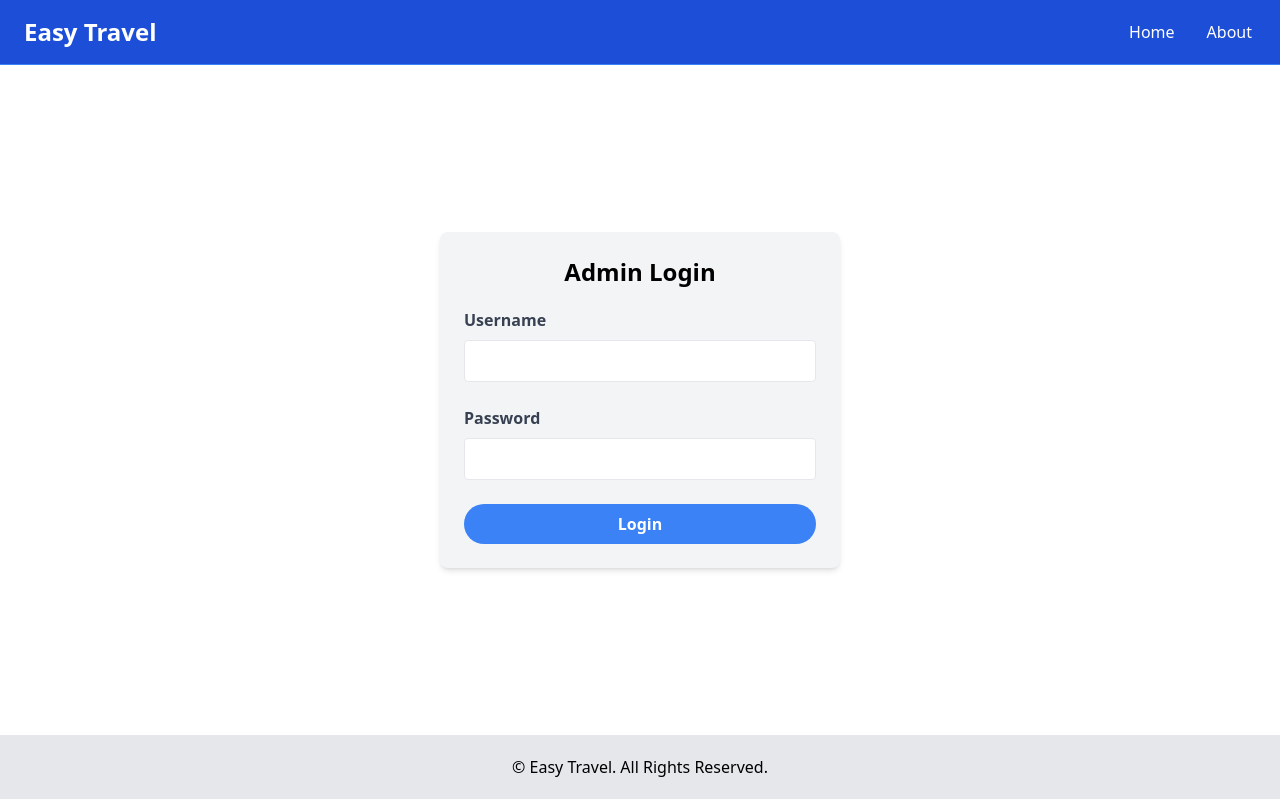
Test: Home Page › should login on correct credentials
The width and height of the screenshot is (1280, 800).
Type "admin" into the field named "username" at point(640, 361), box x1=464 y1=340 x2=816 y2=382
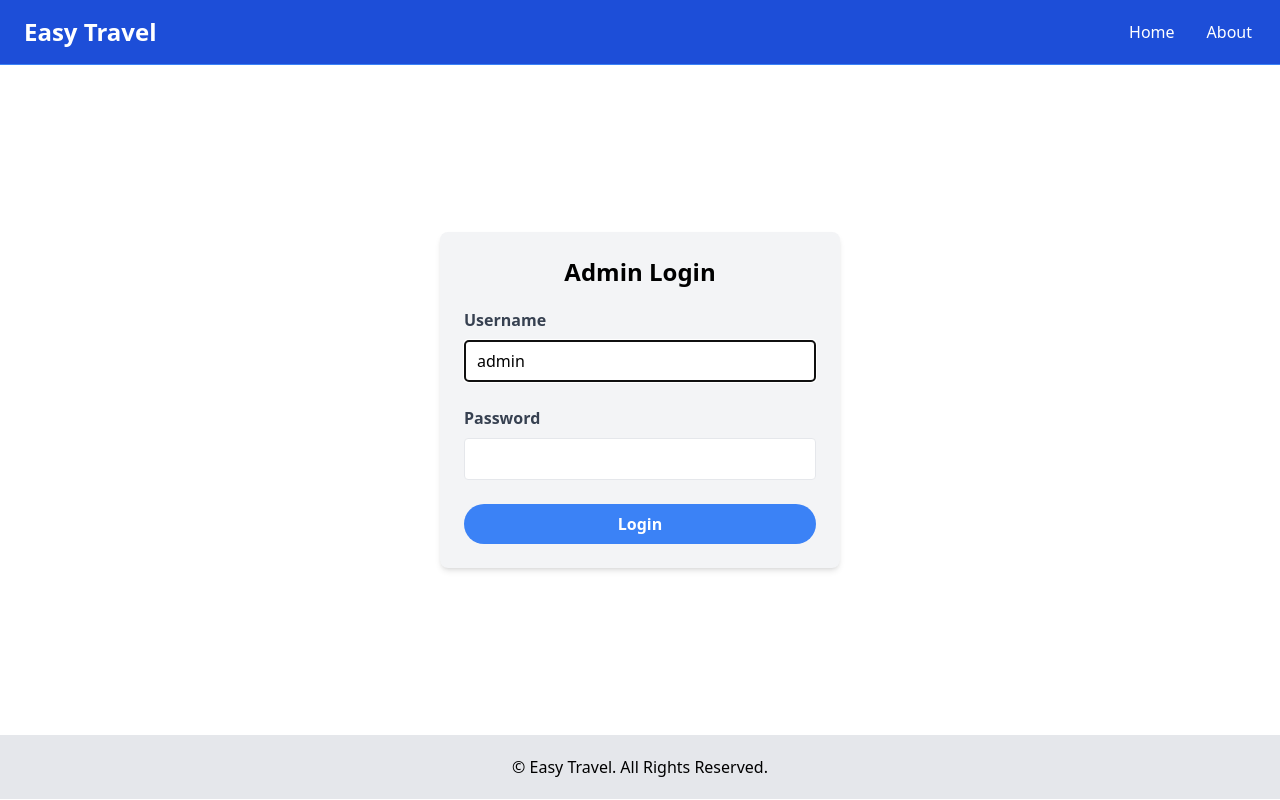
Type "admin" into the password field named "password" at point(640, 459), box x1=464 y1=438 x2=816 y2=480
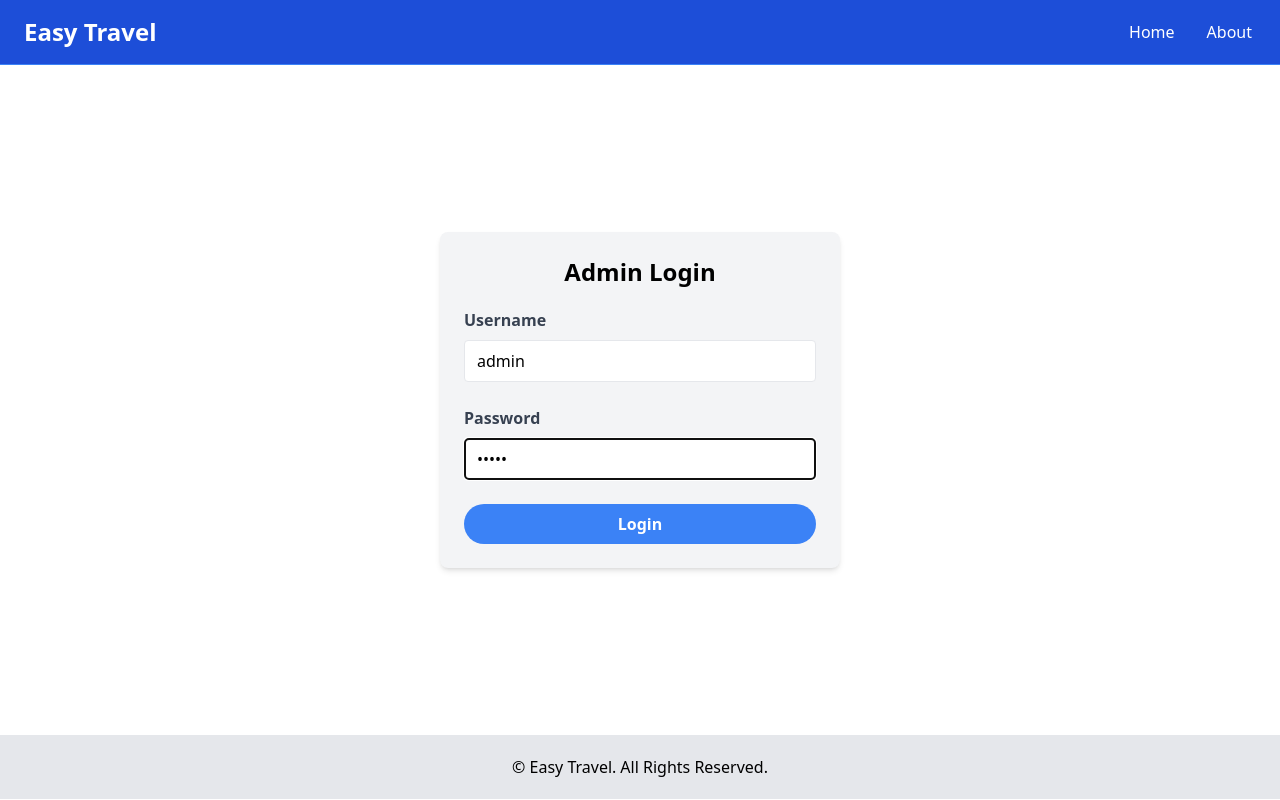
Click the button "Login" at point(640, 524), box x1=464 y1=504 x2=816 y2=544
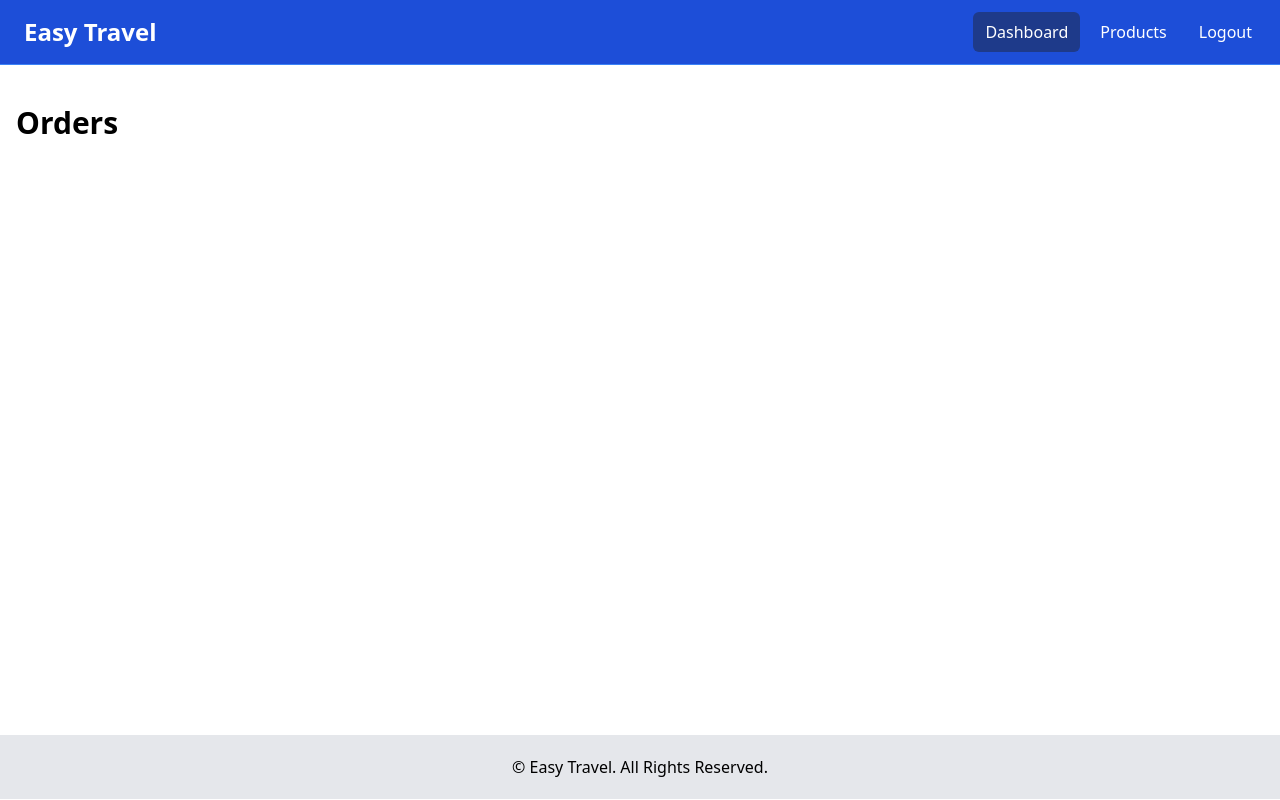
Now the link "Dashboard" is shown, box x1=973 y1=12 x2=1080 y2=52
